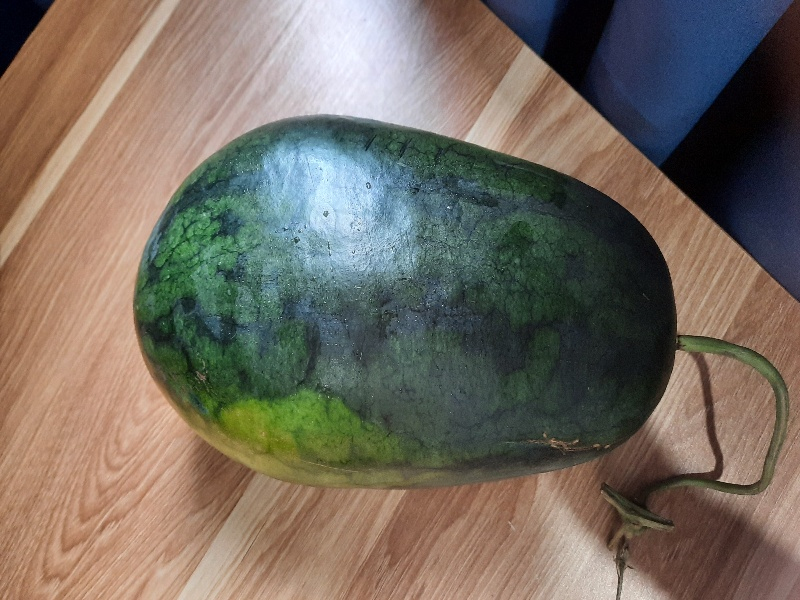fruit: (134, 115, 788, 550)
